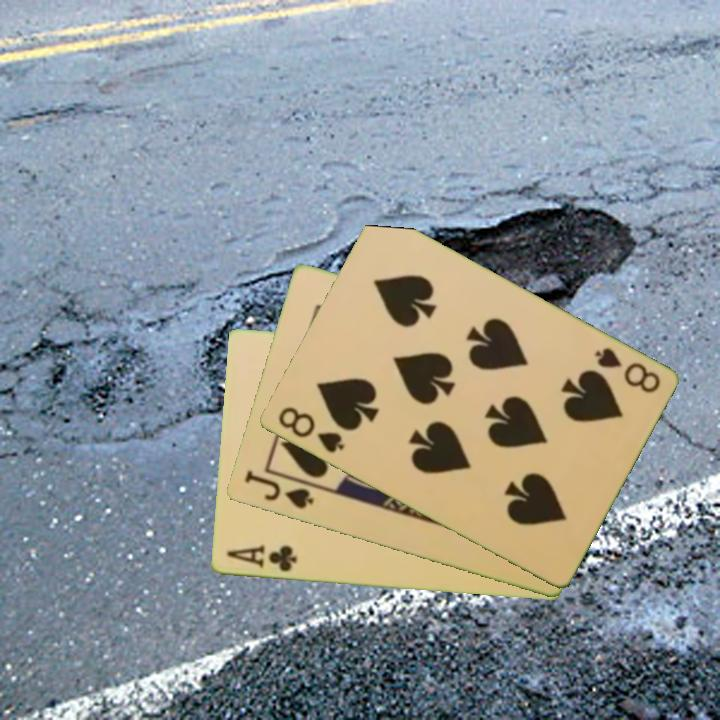8s: (274, 403, 347, 457), (590, 344, 663, 397)
Ac: (222, 542, 299, 575)
Js: (240, 466, 317, 512)
